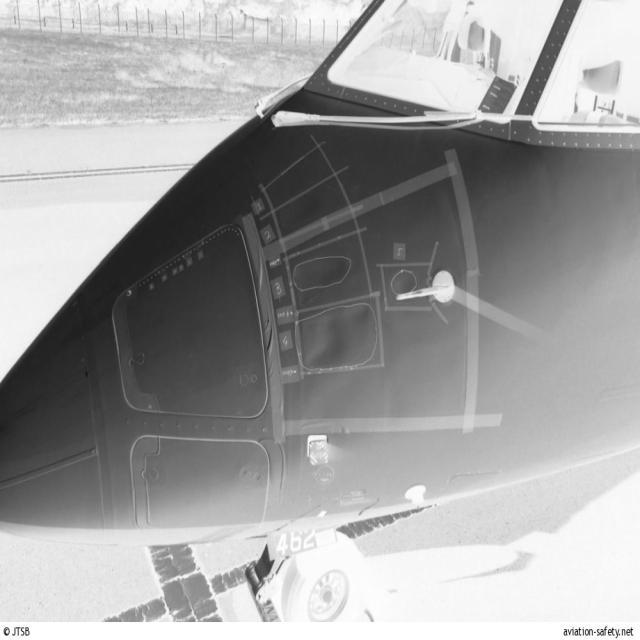dent: (305, 307, 374, 373), (305, 260, 355, 302), (391, 276, 417, 307)
